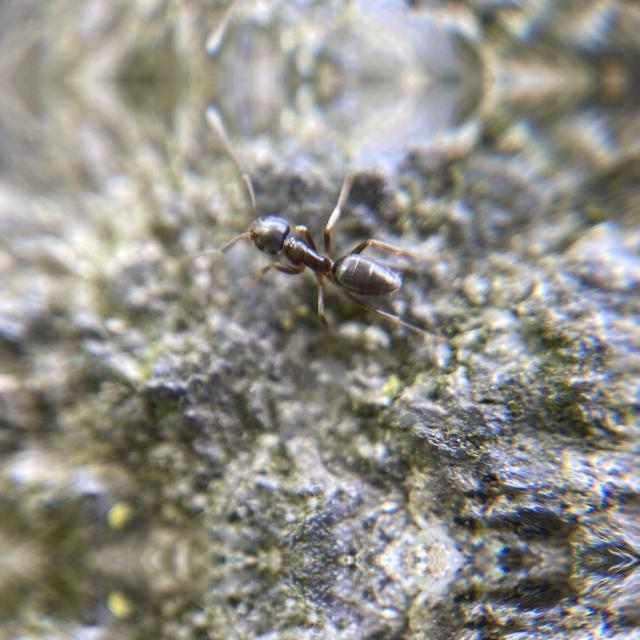Tapinoma: (212, 182, 438, 330)
